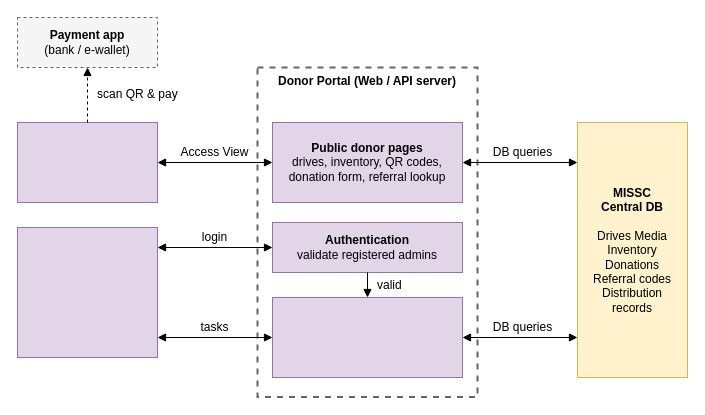
Image size: 705x415. Some labels were removed from this diagram. Here are the shapes that lost their labels. From the top down, the box of each, then its label:
(16, 122, 158, 202): Donor / student browser or mobile
(16, 226, 158, 358): Admin browser (hidden login entry)
(272, 296, 462, 378): Admin workspace confirm donations, inventory, dispatch goods, post drives
